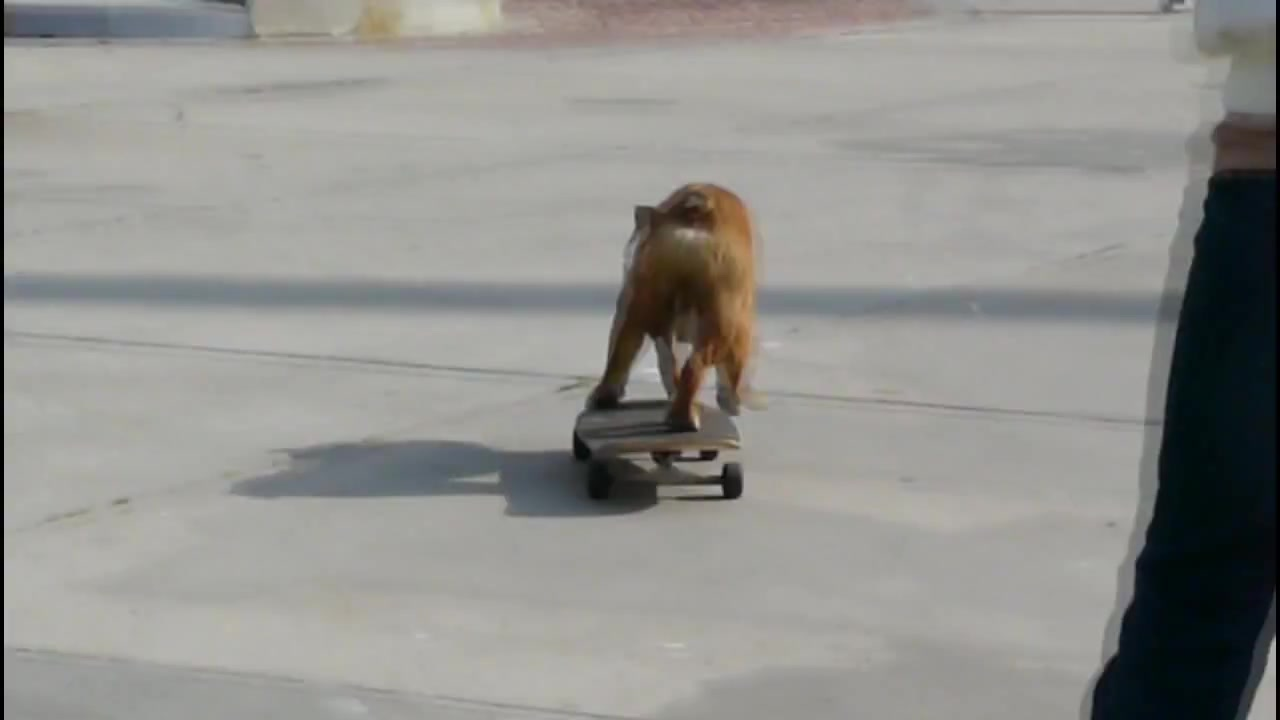dog: (586, 187, 760, 433)
